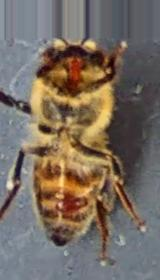varroa_mite: (54, 188, 88, 218)
